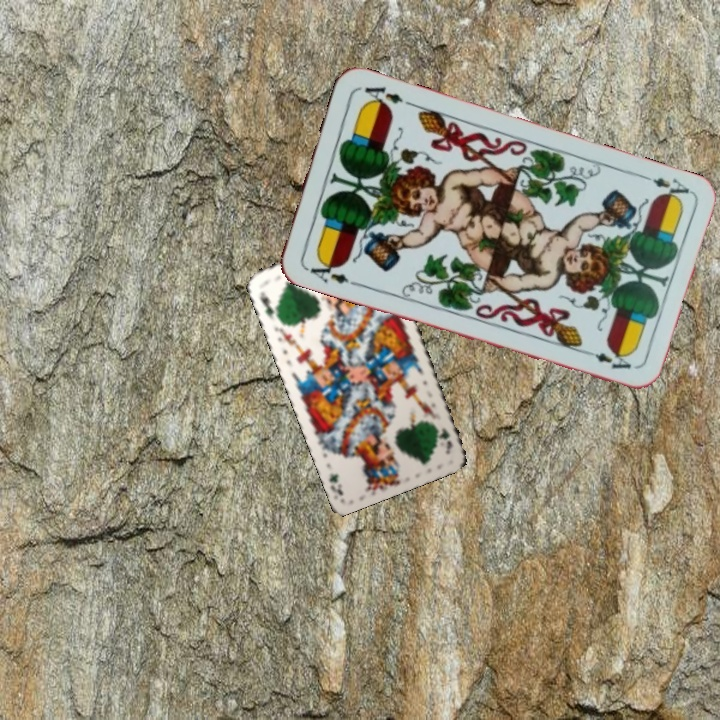EA: (635, 169, 692, 204), (301, 254, 351, 287)
GK: (433, 422, 455, 456), (256, 288, 276, 322)
